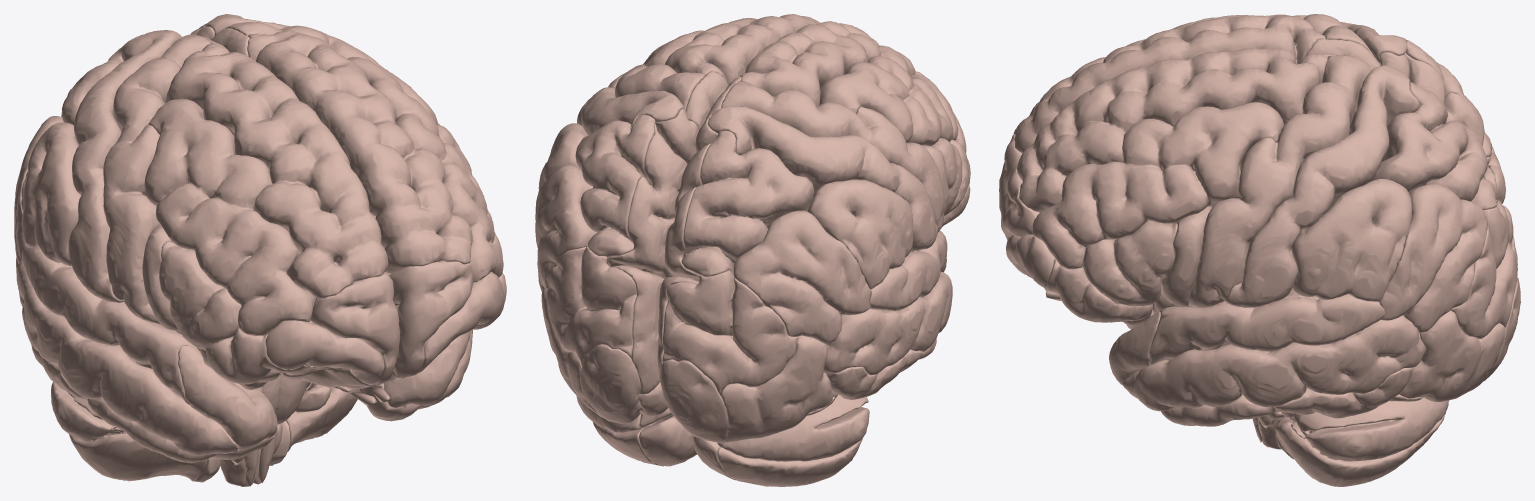
The model's file is brain.glb.
3 renders of one model, left to right at view 1: azimuth 30°, elevation 25°; view 2: azimuth 150°, elevation 25°; view 3: azimuth 270°, elevation 25°, orthographic. The views are drawn at different scales.
Parts seen in each view (by area): view 1: Allen_superior_frontal_gyrus_L, Allen_middle_frontal_gyrus_L, Allen_superior_frontal_gyrus_R, Allen_middle_temporal_gyrus_L, Allen_precentral_gyrus_L, Allen_postcentral_gyrus_L, Allen_superior_temporal_gyrus_L, Allen_middle_frontal_gyrus_R, Allen_supramarginal_gyrus_L, Allen_rostral_gyrus_R, Allen_lateral_hemisphere_of_cerebellum_L, Allen_inferior_frontal_gyrus_triangular_part_L (+19 smaller); view 2: Allen_angular_gyrus_L, Allen_supraparietal_lobule_L, Allen_superior_occipital_gyrus_L, Allen_postcentral_gyrus_L, Allen_lateral_hemisphere_of_cerebellum_L, Allen_superior_occipital_gyrus_R, Allen_supraparietal_lobule_R, Allen_precentral_gyrus_L, Allen_supramarginal_gyrus_L, Allen_middle_frontal_gyrus_L, Allen_superior_frontal_gyrus_L, Allen_inferior_occipital_gyrus_L (+24 smaller); view 3: Allen_middle_frontal_gyrus_R, Allen_superior_frontal_gyrus_R, Allen_middle_temporal_gyrus_R, Allen_precentral_gyrus_R, Allen_postcentral_gyrus_R, Allen_supramarginal_gyrus_R, Allen_angular_gyrus_R, Allen_superior_temporal_gyrus_R, Allen_lateral_hemisphere_of_cerebellum_R, Allen_superior_frontal_gyrus_L, Allen_supraparietal_lobule_R, Allen_inferior_frontal_gyrus_triangular_part_R (+16 smaller).
Part boxes in pixels (x1=…): Allen_superior_frontal_gyrus_L: x1=165, y1=43, x2=388, y2=299; Allen_middle_frontal_gyrus_L: x1=144, y1=98, x2=315, y2=335; Allen_superior_frontal_gyrus_R: x1=247, y1=31, x2=472, y2=273; Allen_middle_temporal_gyrus_L: x1=16, y1=260, x2=238, y2=455; Allen_precentral_gyrus_L: x1=103, y1=34, x2=210, y2=325; Allen_postcentral_gyrus_L: x1=68, y1=30, x2=181, y2=302; Allen_superior_temporal_gyrus_L: x1=21, y1=245, x2=196, y2=404; Allen_middle_frontal_gyrus_R: x1=347, y1=56, x2=503, y2=282; Allen_supramarginal_gyrus_L: x1=21, y1=122, x2=81, y2=266; Allen_rostral_gyrus_R: x1=389, y1=260, x2=473, y2=378; Allen_lateral_hemisphere_of_cerebellum_L: x1=51, y1=382, x2=207, y2=481; Allen_inferior_frontal_gyrus_triangular_part_L: x1=159, y1=241, x2=241, y2=350; Allen_angular_gyrus_L: x1=733, y1=210, x2=870, y2=344; Allen_supraparietal_lobule_L: x1=681, y1=130, x2=814, y2=276; Allen_superior_occipital_gyrus_L: x1=662, y1=270, x2=798, y2=395; Allen_postcentral_gyrus_L: x1=707, y1=106, x2=938, y2=251; Allen_lateral_hemisphere_of_cerebellum_L: x1=717, y1=394, x2=869, y2=486; Allen_superior_occipital_gyrus_R: x1=546, y1=245, x2=636, y2=365; Allen_supraparietal_lobule_R: x1=575, y1=114, x2=655, y2=256; Allen_precentral_gyrus_L: x1=721, y1=81, x2=944, y2=231; Allen_supramarginal_gyrus_L: x1=807, y1=179, x2=912, y2=289; Allen_middle_frontal_gyrus_L: x1=819, y1=55, x2=966, y2=152; Allen_superior_frontal_gyrus_L: x1=740, y1=21, x2=923, y2=106; Allen_inferior_occipital_gyrus_L: x1=721, y1=335, x2=836, y2=442; Allen_middle_frontal_gyrus_R: x1=1032, y1=102, x2=1284, y2=269; Allen_superior_frontal_gyrus_R: x1=1017, y1=48, x2=1327, y2=212; Allen_middle_temporal_gyrus_R: x1=1122, y1=315, x2=1425, y2=411; Allen_precentral_gyrus_R: x1=1188, y1=55, x2=1371, y2=307; Allen_postcentral_gyrus_R: x1=1225, y1=65, x2=1420, y2=307; Allen_supramarginal_gyrus_R: x1=1290, y1=179, x2=1412, y2=301; Allen_angular_gyrus_R: x1=1379, y1=184, x2=1487, y2=333; Allen_superior_temporal_gyrus_R: x1=1149, y1=294, x2=1384, y2=365; Allen_lateral_hemisphere_of_cerebellum_R: x1=1267, y1=397, x2=1448, y2=486; Allen_superior_frontal_gyrus_L: x1=1013, y1=14, x2=1325, y2=153; Allen_supraparietal_lobule_R: x1=1371, y1=82, x2=1497, y2=209; Allen_inferior_frontal_gyrus_triangular_part_R: x1=1082, y1=220, x2=1177, y2=306.
Size of the model in its own units: 1.63 by 1.75 by 2.
